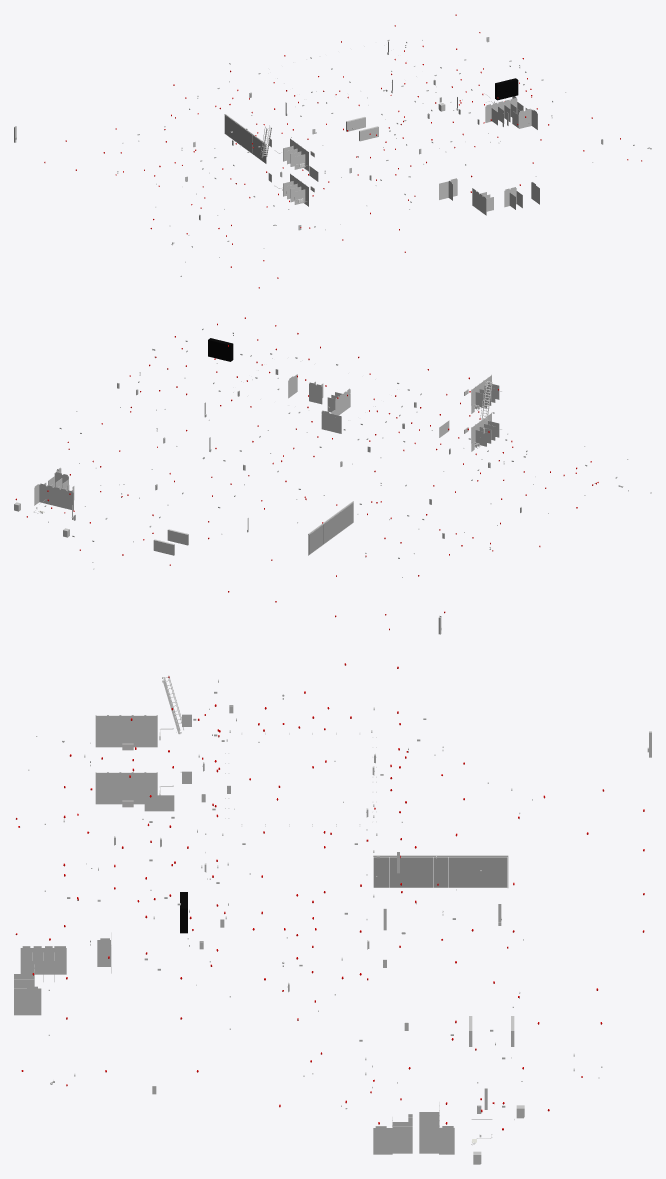
File: grimes-lifesafety.glb
3 views of the same model, one above another, from view 1: azimuth 30°, elevation 25°; view 2: azimuth 150°, elevation 25°; view 3: azimuth 270°, elevation 25° (orthographic). The views are drawn at different scales.
Parts seen in each view (by area): view 1: layer:lifesafety; view 2: layer:lifesafety; view 3: layer:lifesafety.
Part boxes in pixels (x1=…): layer:lifesafety: x1=14, y1=14, x2=651, y2=288; layer:lifesafety: x1=14, y1=317, x2=651, y2=634; layer:lifesafety: x1=14, y1=663, x2=651, y2=1164.
Size of the model in its own units: 67.89 by 18.57 by 49.46.
